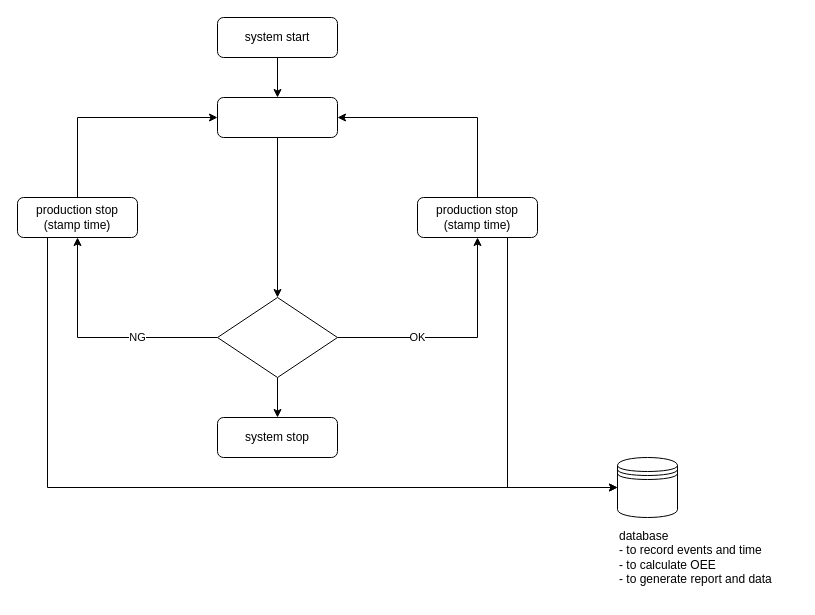
This 815x615 diagram has some shape labels left out. Each missing label, with the centre of its shape:
"production start (stamp time)" goes at (x=277, y=117).
"production stop" goes at (x=277, y=337).
